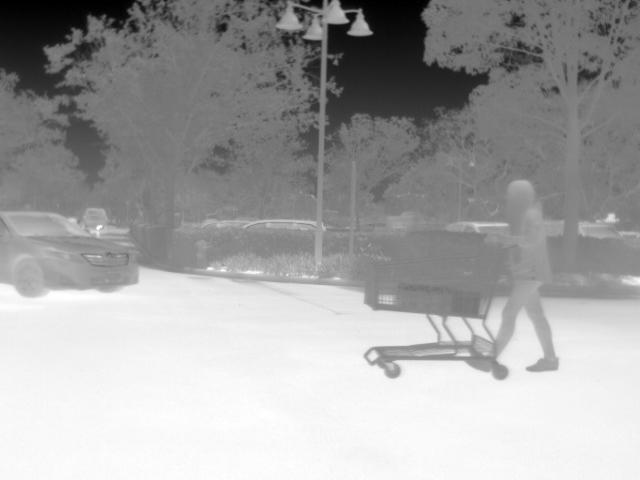car: (0, 209, 140, 297), (574, 219, 620, 241), (73, 206, 110, 232), (445, 220, 511, 234), (240, 220, 316, 232)
person: (491, 177, 560, 372)
